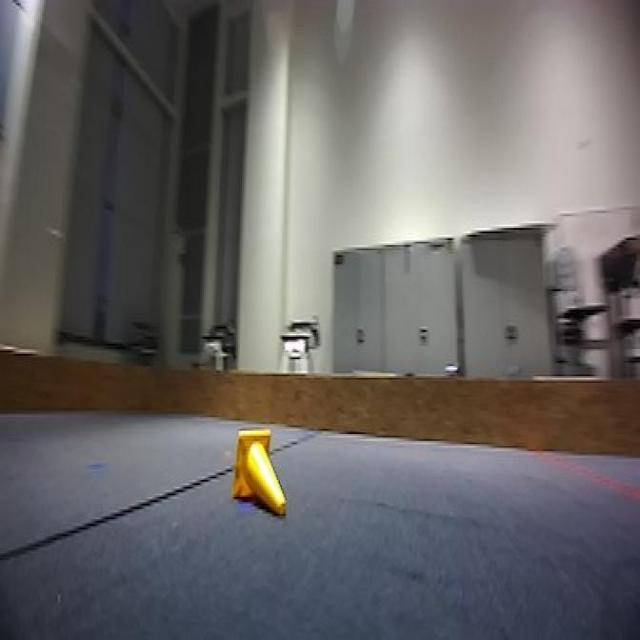frc_cone: (224, 429, 294, 517)
